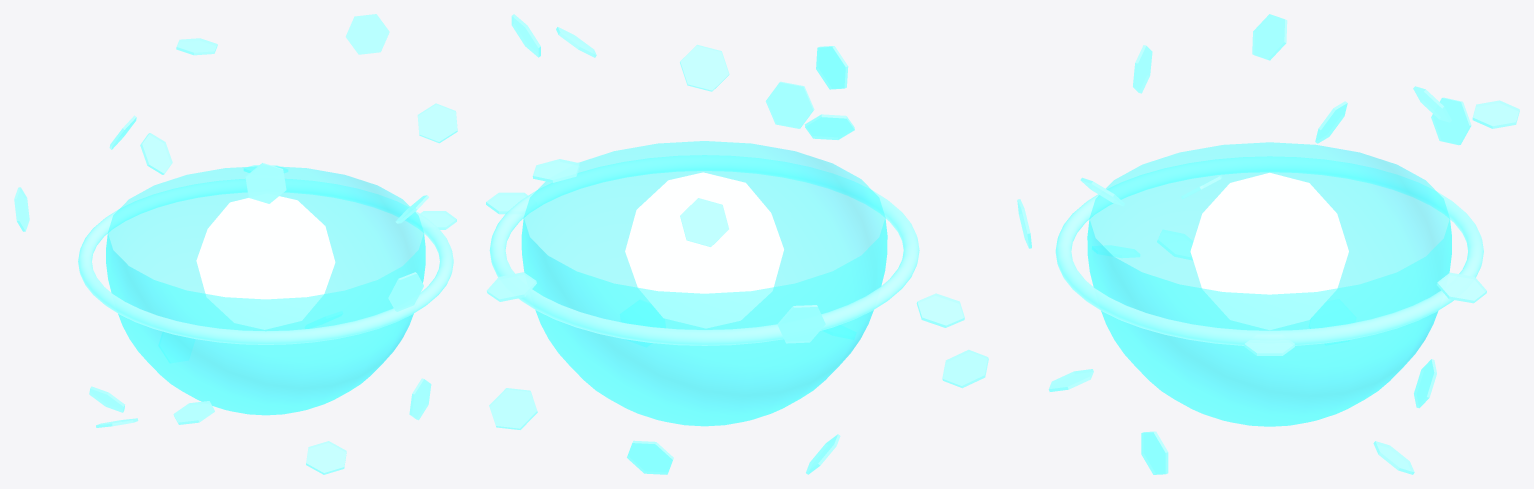
The model's file is vfx_shield_pop.glb.
3 views of the same model, side by side, from view 1: azimuth 30°, elevation 25°; view 2: azimuth 150°, elevation 25°; view 3: azimuth 270°, elevation 25° (orthographic). The views are drawn at different scales.
Parts seen in each view (by area): view 1: pop_shell, pop_flash, pop_ring, pop_shard17, pop_shard6, pop_shard1, pop_shard5, pop_shard4, pop_shard9, pop_shard13, pop_shard7, pop_shard2 (+4 smaller); view 2: pop_shell, pop_flash, pop_ring, pop_shard12, pop_shard3, pop_shard4, pop_shard16, pop_shard11, pop_shard8, pop_shard7, pop_shard13, pop_shard6 (+6 smaller); view 3: pop_shell, pop_flash, pop_ring, pop_shard9, pop_shard11, pop_shard15, pop_shard14, pop_shard2, pop_shard10, pop_shard0, pop_shard8, pop_shard13 (+5 smaller).
Part boxes in pixels (left/top/right/bottom): pop_shell: left=106, top=166, right=425, bottom=415; pop_flash: left=196, top=196, right=335, bottom=329; pop_ring: left=78, top=178, right=453, bottom=344; pop_shard17: left=345, top=14, right=389, bottom=54; pop_shard6: left=245, top=163, right=286, bottom=203; pop_shard1: left=417, top=103, right=457, bottom=143; pop_shard5: left=306, top=441, right=346, bottom=474; pop_shard4: left=388, top=272, right=423, bottom=311; pop_shard9: left=140, top=133, right=172, bottom=174; pop_shard13: left=158, top=332, right=194, bottom=362; pop_shard7: left=173, top=401, right=214, bottom=424; pop_shard2: left=409, top=378, right=431, bottom=420; pop_shell: left=521, top=141, right=887, bottom=426; pop_flash: left=625, top=172, right=783, bottom=328; pop_ring: left=489, top=155, right=919, bottom=345; pop_shard12: left=680, top=198, right=728, bottom=246; pop_shard3: left=680, top=44, right=729, bottom=91; pop_shard4: left=765, top=81, right=814, bottom=128; pop_shard16: left=489, top=388, right=537, bottom=429; pop_shard11: left=777, top=305, right=825, bottom=343; pop_shard8: left=942, top=349, right=988, bottom=388; pop_shard7: left=916, top=293, right=964, bottom=327; pop_shard13: left=627, top=440, right=673, bottom=474; pop_shard6: left=816, top=46, right=848, bottom=89; pop_shell: left=1087, top=142, right=1451, bottom=426; pop_flash: left=1190, top=172, right=1348, bottom=329; pop_ring: left=1055, top=156, right=1483, bottom=345; pop_shard9: left=1252, top=14, right=1287, bottom=60; pop_shard11: left=1431, top=97, right=1471, bottom=145; pop_shard15: left=1436, top=272, right=1486, bottom=303; pop_shard14: left=1472, top=100, right=1519, bottom=128; pop_shard2: left=1141, top=431, right=1168, bottom=474; pop_shard10: left=1309, top=299, right=1355, bottom=344; pop_shard0: left=1244, top=335, right=1294, bottom=355; pop_shard8: left=1157, top=229, right=1193, bottom=260; pop_shard13: left=1414, top=359, right=1436, bottom=408.
Bounding box in the file's own units: 3.26 × 2.69 × 3.17.
